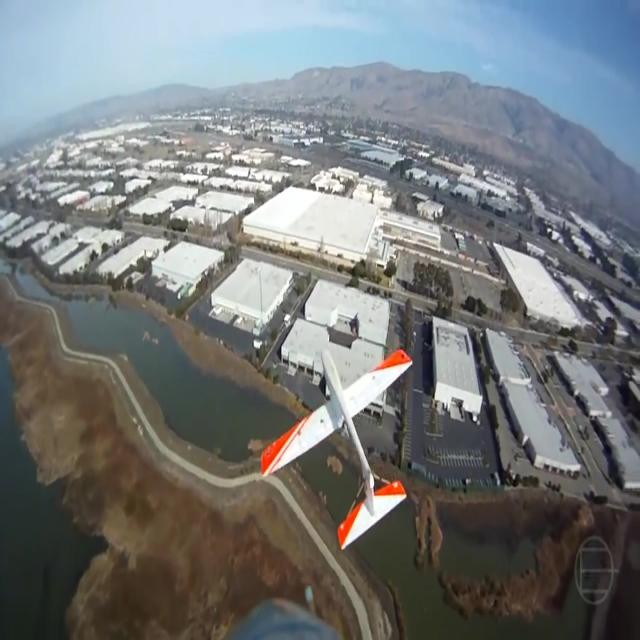iha: (260, 351, 414, 549)
